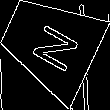N_NW: (21, 14, 79, 73)
